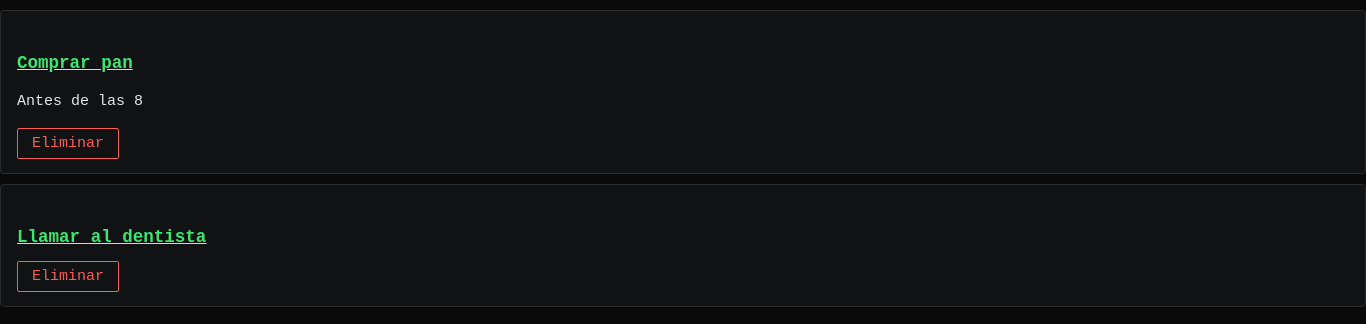
Test: NotesList delete › asks_for_confirmation_and_cancelling_keeps_the_note_without_calling_delete
Click the button "Eliminar" below "Comprar pan" at (68, 144), box [17,128,119,159]
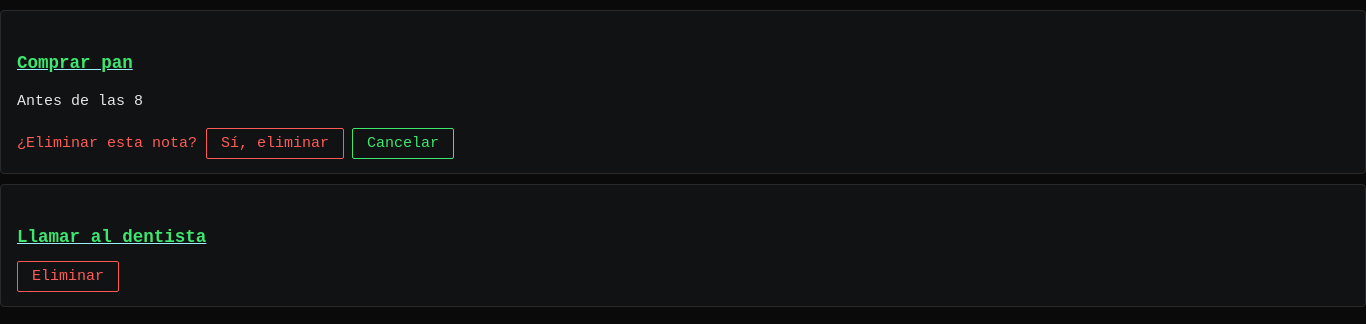
Expected: the text "¿Eliminar esta nota?" is shown, [17,135,197,152]
Click the button "Cancelar" at (403, 144), box [352,128,454,159]
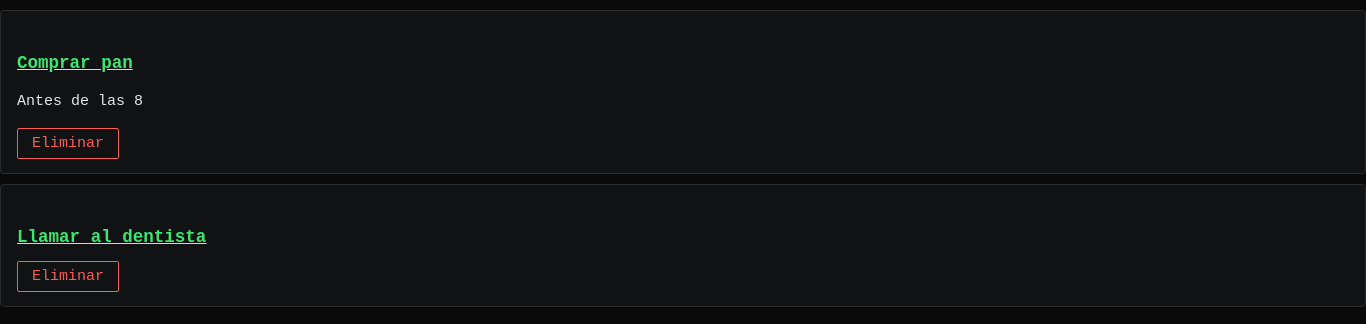
Expected: the heading "Comprar pan" is shown, [17,53,133,73]
Expected: the text "¿Eliminar esta nota?" is gone
